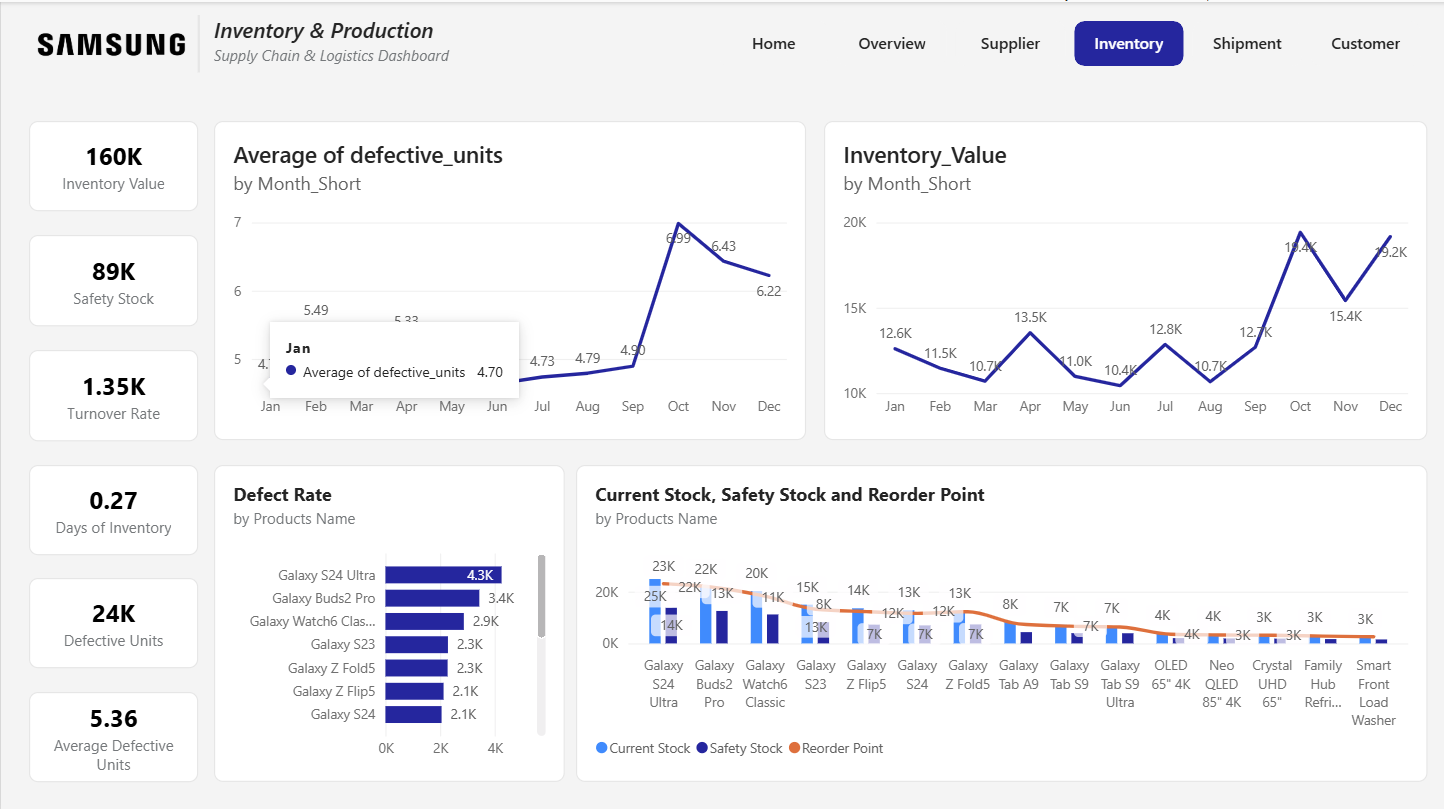

The dashboard page shown, as its layout file describes it:
{"tool":"powerbi","page":{"name":"Inventory","canvas":[1280,720],"ordinal":3},"visuals":[{"type":"shape","title":"Inventory & Production","box":[188.5,11.1,236.9,51.4],"z":0},{"type":"shape","box":[162.3,11.1,26.2,51.4],"z":1000},{"type":"image","box":[13.1,20.2,162.3,34.3],"z":2000},{"type":"cardVisual","fields":{"Data":["MeasuresTable.Turnover Rate"]},"box":[25.2,308.4,150.2,80.6],"z":3000},{"type":"cardVisual","fields":{"Data":["MeasuresTable.Days of inventory"]},"box":[25.2,410.2,150.2,79.6],"z":4000},{"type":"cardVisual","fields":{"Data":["Sum(fact_production.defective_units)"]},"box":[25.2,511,150.2,79.6],"z":5000},{"type":"cardVisual","fields":{"Data":["Avg(fact_production.defective_units)"]},"box":[25.2,611.8,150.2,79.6],"z":6000},{"type":"cardVisual","fields":{"Data":["MeasuresTable.Inventory_Value"]},"box":[25.2,105.8,150.2,79.6],"z":7000},{"type":"cardVisual","fields":{"Data":["MeasuresTable.Safety_Stock"]},"box":[25.2,206.6,150.2,80.6],"z":8000},{"type":"clusteredBarChart","title":"Defect Rate","fields":{"Category":["dim_product.product_name"],"Y":["MeasuresTable.Defect_Rate"]},"box":[188.5,410.2,311.4,281.2],"z":9000},{"type":"lineClusteredColumnComboChart","title":"Current Stock, Safety Stock and Reorder Point","fields":{"Category":["dim_product.product_name"],"Y":["MeasuresTable.Inventory_Value","MeasuresTable.Safety_Stock"],"Y2":["MeasuresTable.Reorder Point"]},"box":[510,410.2,754.9,281.2],"z":10000},{"type":"lineChart","fields":{"Y":["Avg(fact_production.defective_units)"],"Category":["dim_date.Month_Short"]},"box":[188.5,105.8,525.1,283.2],"z":11000},{"type":"lineChart","fields":{"Category":["dim_date.Month_Short"],"Y":["MeasuresTable.Inventory_Value"]},"box":[729.7,105.8,535.2,283.2],"z":12000},{"type":"pageNavigator","box":[637,17.1,622.9,40.3],"z":13000}]}

Visuals, with their boxes in screenshot pixels (x1, y1, x2, y2), scaled from the page's 1280x720 canvas onto the 1444x809 screenshot:
"Inventory & Production" shape: (213, 12, 480, 70)
shape: (183, 12, 213, 70)
image: (15, 23, 198, 61)
cardVisual - MeasuresTable.Turnover Rate: (28, 347, 198, 437)
cardVisual - MeasuresTable.Days of inventory: (28, 461, 198, 550)
cardVisual - Sum(fact_production.defective_units): (28, 574, 198, 664)
cardVisual - Avg(fact_production.defective_units): (28, 687, 198, 777)
cardVisual - MeasuresTable.Inventory_Value: (28, 119, 198, 208)
cardVisual - MeasuresTable.Safety_Stock: (28, 232, 198, 323)
"Defect Rate" clusteredBarChart: (213, 461, 564, 777)
"Current Stock, Safety Stock and Reorder Point" lineClusteredColumnComboChart: (575, 461, 1427, 777)
lineChart - Avg(fact_production.defective_units) x dim_date.Month_Short: (213, 119, 805, 437)
lineChart - dim_date.Month_Short x MeasuresTable.Inventory_Value: (823, 119, 1427, 437)
pageNavigator: (719, 19, 1421, 64)
